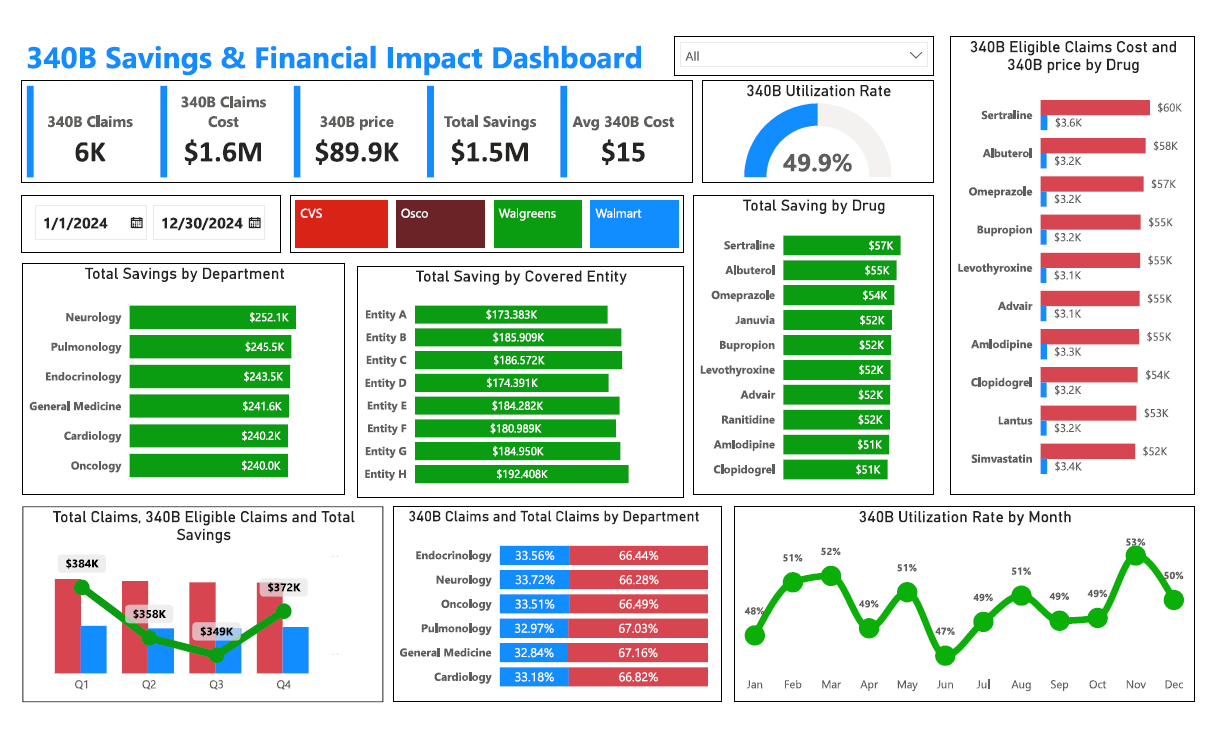

Layout of this report page (visuals, bound fields, positions):
{"tool":"powerbi","page":{"name":"340B Savings & Financial Impact Dashboard","canvas":[1280,720],"ordinal":0},"visuals":[{"type":"cardVisual","fields":{"Data":["Calculations.340B Eligible Claims","Calculations.340B Eligible Claims Cost","Calculations.340B price","Calculations.Total Savings","Calculations.Avg 340B Cost"]},"box":[12.6,53.5,720.7,109.9],"z":0},{"type":"lineChart","fields":{"Category":["DateTable.Month"],"Y":["Calculations.340B Utilization Rate"]},"box":[777.1,509.7,494.1,210.1],"z":1000},{"type":"slicer","fields":{"Values":["DateTable.Date"]},"box":[12.6,176,278.2,62.2],"z":2000},{"type":"clusteredBarChart","fields":{"Category":["340B_master_dataset.Department"],"Y":["Calculations.Total Savings"]},"box":[13.6,249,346.3,249],"z":3000},{"type":"lineClusteredColumnComboChart","title":"Total Claims, 340B Eligible Claims and Total Savings ","fields":{"Category":["DateTable.Quarter"],"Y":["Calculations.Total Claims","Calculations.340B Eligible Claims"],"Y2":["Calculations.Total Savings"]},"box":[13.6,509.7,387.1,210.1],"z":4000},{"type":"clusteredBarChart","title":"340B Eligible Claims Cost and 340B price by Drug ","fields":{"Category":["340B_master_dataset.Drug Name"],"Y":["Calculations.340B Eligible Claims Cost","Calculations.340B price"]},"box":[1008.6,5.8,262.6,492.2],"z":5000},{"type":"hundredPercentStackedBarChart","fields":{"Category":["340B_master_dataset.Department"],"Y":["Calculations.340B Eligible Claims","Calculations.Total Claims"]},"box":[411.4,509.7,352.1,210.1],"z":6000},{"type":"treemap","fields":{"Group":["340B_master_dataset.Pharmacy Name"],"Values":["Calculations.340B Eligible Claims"]},"box":[300.5,176,422.1,62.2],"z":7000},{"type":"textbox","box":[12.6,0,689.6,53.5],"z":8000},{"type":"gauge","fields":{"Y":["Calculations.340B Utilization Rate"]},"box":[743.1,53.5,248,109.9],"z":9000},{"type":"barChart","title":"Total Saving by Drug ","fields":{"Y":["Calculations.Total Savings"],"Category":["340B_master_dataset.Drug Name"]},"box":[733.4,176,257.8,321.9],"z":10000},{"type":"barChart","title":"Total Saving by Covered Entity","fields":{"Category":["340B_master_dataset.Covered Entity"],"Y":["Calculations.Total Savings"]},"box":[373.5,251.9,349.2,249],"z":11000},{"type":"slicer","fields":{"Values":["340B_master_dataset.Covered Entity"]},"box":[712.9,5.8,278.2,41.8],"z":12000}]}

Visuals, with their boxes in screenshot pixels (x1, y1, x2, y2):
cardVisual - Calculations.340B Eligible Claims x Calculations.340B Eligible Claims Cost: [x1=18, y1=78, x2=690, y2=181]
lineChart - DateTable.Month x Calculations.340B Utilization Rate: [x1=731, y1=504, x2=1192, y2=700]
slicer - DateTable.Date: [x1=18, y1=193, x2=278, y2=251]
clusteredBarChart - 340B_master_dataset.Department x Calculations.Total Savings: [x1=19, y1=261, x2=342, y2=493]
"Total Claims, 340B Eligible Claims and Total Savings " lineClusteredColumnComboChart: [x1=19, y1=504, x2=380, y2=700]
"340B Eligible Claims Cost and 340B price by Drug " clusteredBarChart: [x1=947, y1=34, x2=1192, y2=493]
hundredPercentStackedBarChart - 340B_master_dataset.Department x Calculations.340B Eligible Claims: [x1=390, y1=504, x2=719, y2=700]
treemap - 340B_master_dataset.Pharmacy Name x Calculations.340B Eligible Claims: [x1=287, y1=193, x2=681, y2=251]
textbox: [x1=18, y1=28, x2=661, y2=78]
gauge - Calculations.340B Utilization Rate: [x1=700, y1=78, x2=931, y2=181]
"Total Saving by Drug " barChart: [x1=691, y1=193, x2=931, y2=493]
"Total Saving by Covered Entity" barChart: [x1=355, y1=263, x2=681, y2=496]
slicer - 340B_master_dataset.Covered Entity: [x1=671, y1=34, x2=931, y2=73]
